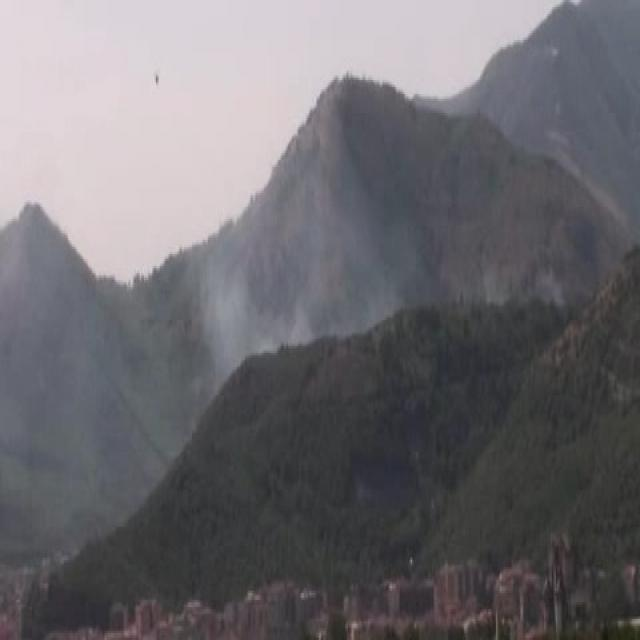smoke: (211, 154, 387, 354)
